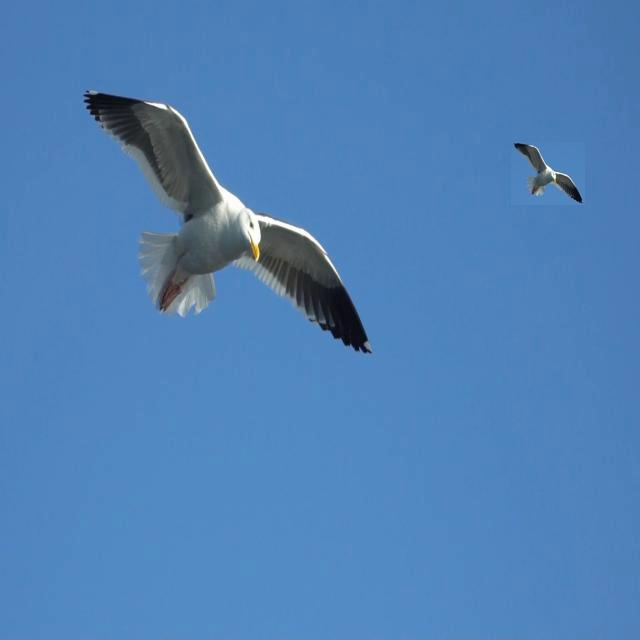bird: (80, 79, 378, 367), (512, 142, 584, 203)
